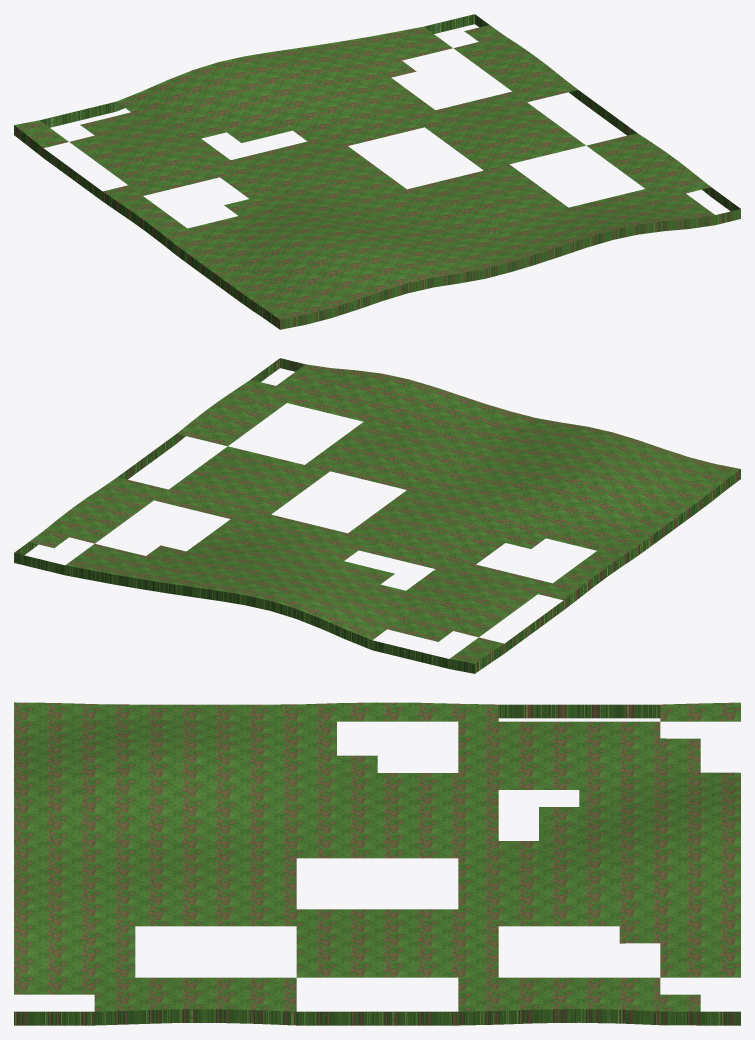
The model's file is rv_terrain_01.gltf.
3 renders of one model, top to bottom at view 1: azimuth 30°, elevation 25°; view 2: azimuth 150°, elevation 25°; view 3: azimuth 270°, elevation 25°, orthographic. The views are drawn at different scales.
Parts seen in each view (by area): view 1: RV_Terrain_01; view 2: RV_Terrain_01; view 3: RV_Terrain_01.
Boxes of the visible parts, x1,y1,x2,y2 form: RV_Terrain_01: [14, 14, 740, 329]; RV_Terrain_01: [14, 358, 740, 673]; RV_Terrain_01: [14, 702, 740, 1025].
Size of the model in its own units: 72 by 3.67 by 72.
Materials: 2 (1 with a texture image).
